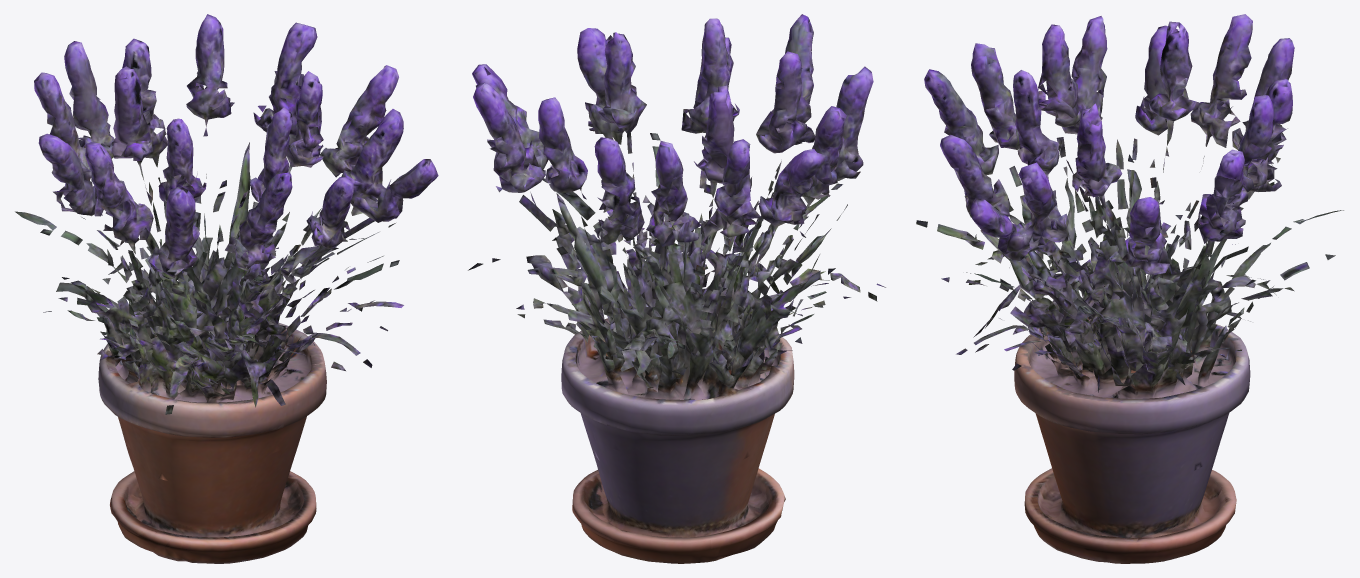
File: lavender.glb
3 views of the same model, side by side, from view 1: azimuth 30°, elevation 25°; view 2: azimuth 150°, elevation 25°; view 3: azimuth 270°, elevation 25° (orthographic). The views are drawn at different scales.
Size of the model in its own units: 1.6 by 1.99 by 1.65.
1 material, 1 textured.
